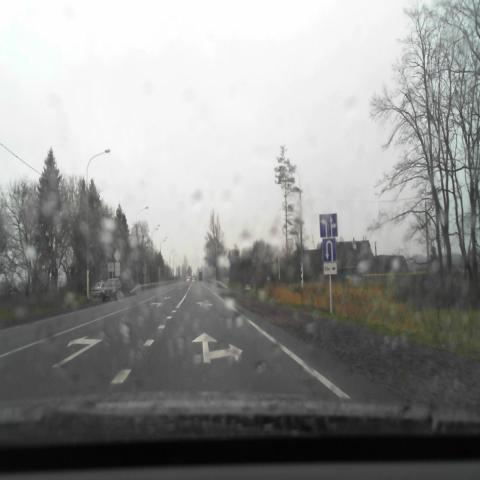5_15_2_2: (319, 214, 338, 238)
6_3_1: (323, 238, 336, 262)
8_1_3: (324, 262, 336, 274)
